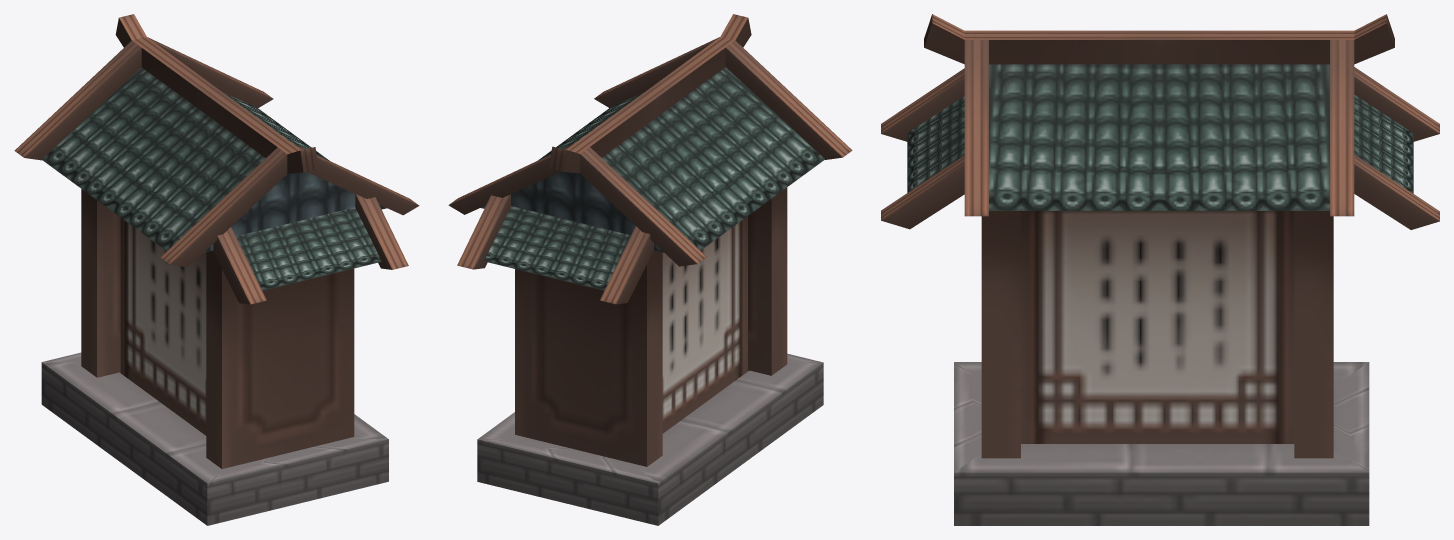
Rendered from zhucheng01_paihanbang.FBX.
The picture shows the model from 3 angles, left to right: view 1: azimuth 30°, elevation 25°; view 2: azimuth 150°, elevation 25°; view 3: azimuth 270°, elevation 25°; orthographic projection. The views are drawn at different scales.
Parts seen in each view (by area): view 1: Box38; view 2: Box38; view 3: Box38.
Boxes of the visible parts, x1=… form: Box38: x1=14, y1=14, x2=419, y2=525; Box38: x1=448, y1=14, x2=852, y2=525; Box38: x1=881, y1=14, x2=1439, y2=525.
Size of the model in its own units: 4.5 by 6.23 by 6.97.
